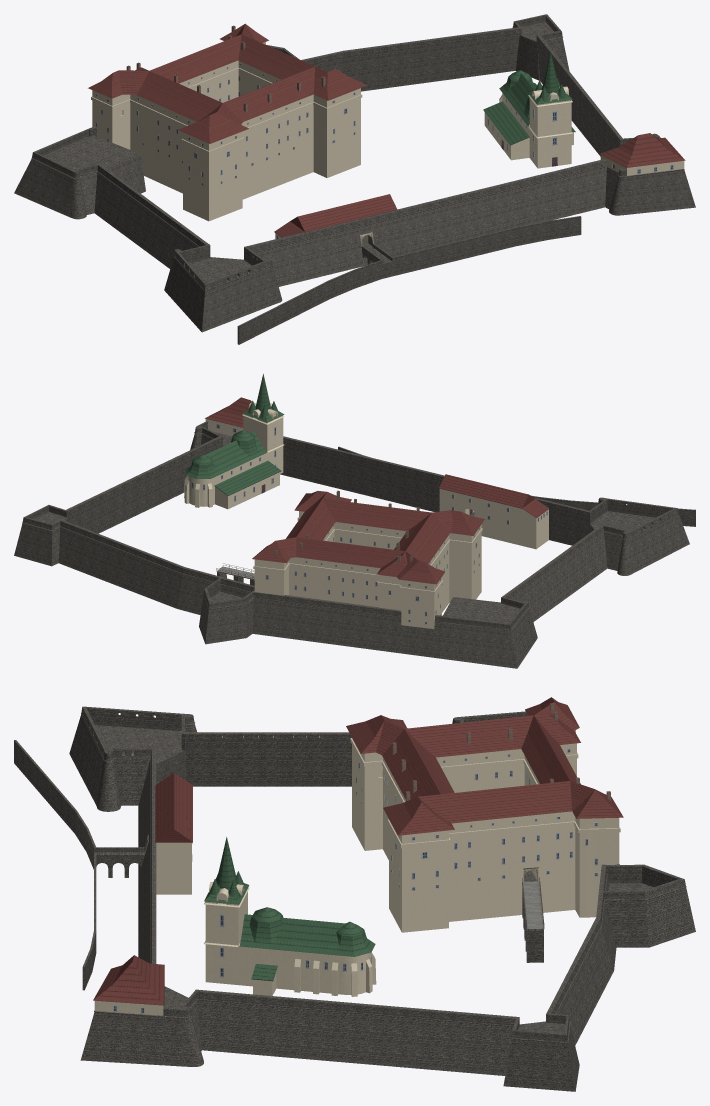
The model's file is UzhgorodCastle.FBX.
3 views of the same model, one above another, from view 1: azimuth 30°, elevation 25°; view 2: azimuth 150°, elevation 25°; view 3: azimuth 270°, elevation 25° (orthographic). The views are drawn at different scales.
Parts seen in each view (by area): view 1: Castle, Roof1, Bastion001, Bastion003, ChurchBody, Bastion002, WallSegment038, GateBuildingRoof, Bastion004, BastionBuildingRoof, WallSegment031, WallSegment029 (+32 smaller); view 2: Castle, Roof1, Bastion003, Bastion001, ChurchBody, GateBuilding, Bastion005, Bastion004, GateBuildingRoof, WallSegment028, WallSegment026, WallSegment027 (+33 smaller); view 3: Castle, Roof1, Bastion001, ChurchBody, Bastion002, Bastion005, Bastion004, WallSegment013, WallSegment017, WallSegment015, WallSegment016, WallSegment014 (+21 smaller).
Part boxes in pixels (x1,y1,x2,y2): Castle: (91,42,362,221); Roof1: (88,23,367,143); Bastion001: (164,244,282,332); Bastion003: (14,128,145,219); ChurchBody: (484,86,573,168); Bastion002: (605,133,695,215); WallSegment038: (336,211,398,271); GateBuildingRoof: (274,194,397,237); Bastion004: (512,14,569,80); BastionBuildingRoof: (599,133,685,167); WallSegment031: (452,31,489,79); WallSegment029: (415,36,452,83); Castle: (253,511,482,628); Roof1: (252,491,484,584); Bastion003: (439,597,537,668); Bastion001: (589,497,689,575); ChurchBody: (184,402,284,509); GateBuilding: (439,488,548,549); Bastion005: (199,578,254,644); Bastion004: (14,505,68,566); GateBuildingRoof: (439,474,549,517); WallSegment028: (342,603,377,649); WallSegment026: (279,595,315,641); WallSegment027: (311,599,345,645); Castle: (350,730,620,932); Roof1: (346,697,623,835); Bastion001: (69,706,196,811); ChurchBody: (204,882,376,996); Bastion002: (80,986,203,1066); Bastion005: (602,864,695,947); Bastion004: (503,1013,579,1091); WallSegment013: (234,993,284,1056); WallSegment017: (423,1009,473,1072); WallSegment015: (328,1001,378,1064); WallSegment016: (375,1005,426,1068); WallSegment014: (281,997,331,1060).
Size of the model in its own units: 17956 by 4257 by 15308.
Materials: 12 (12 with a texture image).
